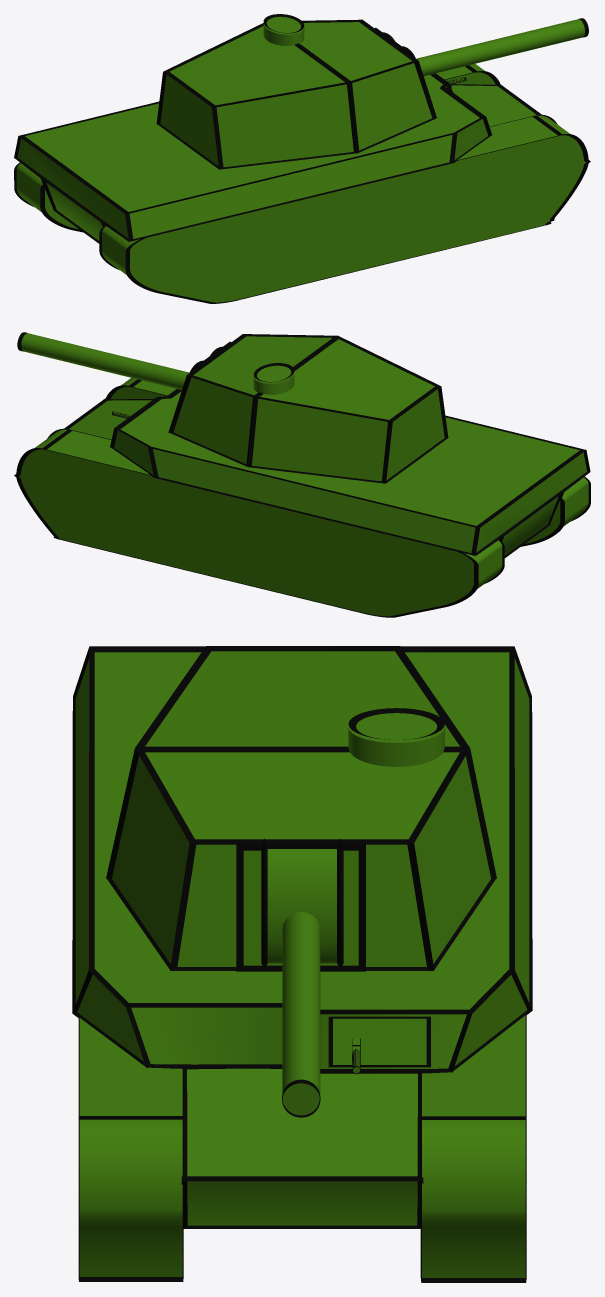
The model's file is type4heavy_visual.glb.
3 views of the same model, one above another, from view 1: azimuth 30°, elevation 25°; view 2: azimuth 150°, elevation 25°; view 3: azimuth 270°, elevation 25° (orthographic). The views are drawn at different scales.
Parts seen in each view (by area): view 1: Cubo.006, Cubo, Cubo.001, Cilindro.002, Cubo.008, Cubo.005, Cilindro, Cubo.007; view 2: Cubo.005, Cubo, Cubo.001, Cilindro.002, Cubo.006, Cubo.007, Cilindro, Cubo.008; view 3: Cubo, Cubo.001, Cubo.005, Cubo.006, Cilindro.002, Cubo.002, Cilindro.001, Cubo.003, Cilindro, Cubo.008, Cubo.007, Cilindro.004 (+1 smaller).
Boxes of the visible parts, x1,y1,x2,y2 form: Cubo.006: [102, 115, 585, 302]; Cubo: [14, 73, 541, 243]; Cubo.001: [156, 19, 436, 169]; Cilindro.002: [416, 19, 584, 75]; Cubo.008: [99, 114, 590, 303]; Cubo.005: [16, 64, 495, 229]; Cilindro: [263, 16, 304, 45]; Cubo.007: [14, 65, 500, 232]; Cubo.005: [19, 429, 502, 616]; Cubo: [64, 389, 590, 557]; Cubo.001: [168, 334, 448, 483]; Cilindro.002: [21, 333, 188, 389]; Cubo.006: [110, 378, 588, 543]; Cubo.007: [14, 428, 504, 617]; Cilindro: [253, 365, 294, 394]; Cubo.008: [105, 379, 590, 546]; Cubo: [72, 646, 532, 1228]; Cubo.001: [106, 646, 496, 970]; Cubo.005: [422, 1015, 525, 1277]; Cubo.006: [79, 1018, 182, 1276]; Cilindro.002: [282, 912, 320, 1115]; Cubo.002: [236, 842, 365, 971]; Cilindro.001: [267, 849, 336, 963]; Cubo.003: [328, 1016, 430, 1067]; Cilindro: [348, 713, 444, 766]; Cubo.008: [78, 1016, 183, 1281]; Cubo.007: [420, 1013, 526, 1282]; Cilindro.004: [261, 838, 343, 968].
Bounding box in the file's own units: 31.27 × 10.93 × 12.14.
